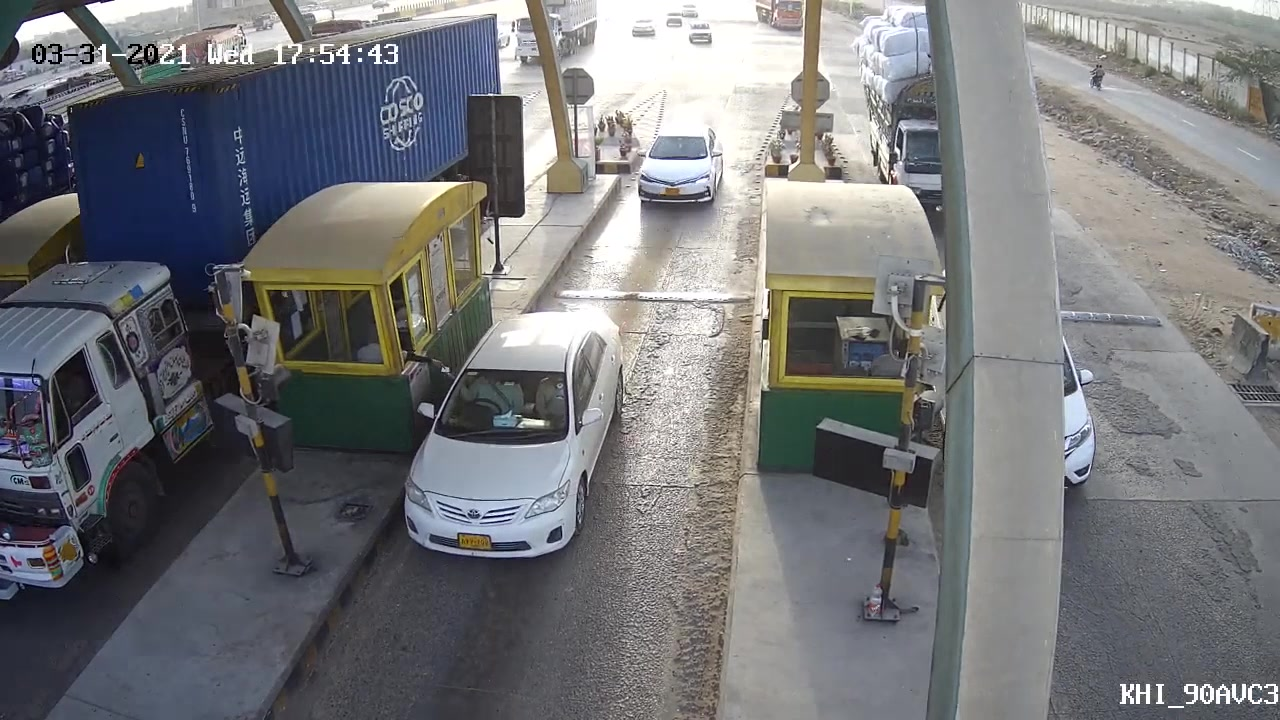F1: (389, 305, 635, 565), (631, 118, 723, 206)
